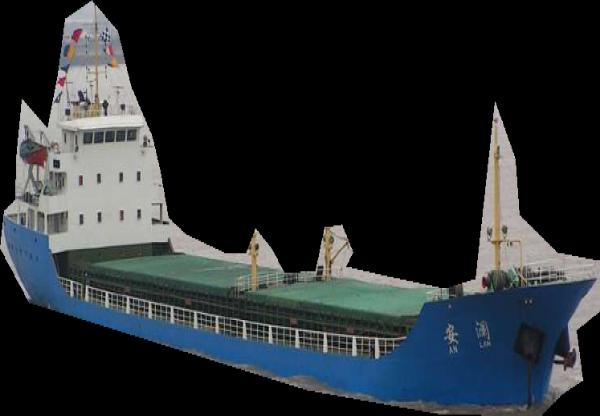Bulkers: (0, 0, 600, 416)
